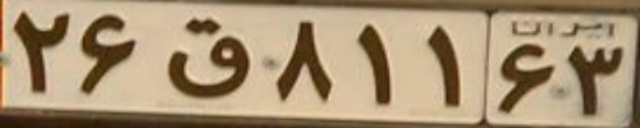1: (424, 24, 461, 106), (357, 23, 389, 103)
2: (10, 10, 66, 94)
3: (567, 44, 625, 117)
6: (80, 13, 141, 95), (498, 43, 556, 112)
8: (273, 20, 332, 101)
ghaf: (163, 16, 251, 99)
